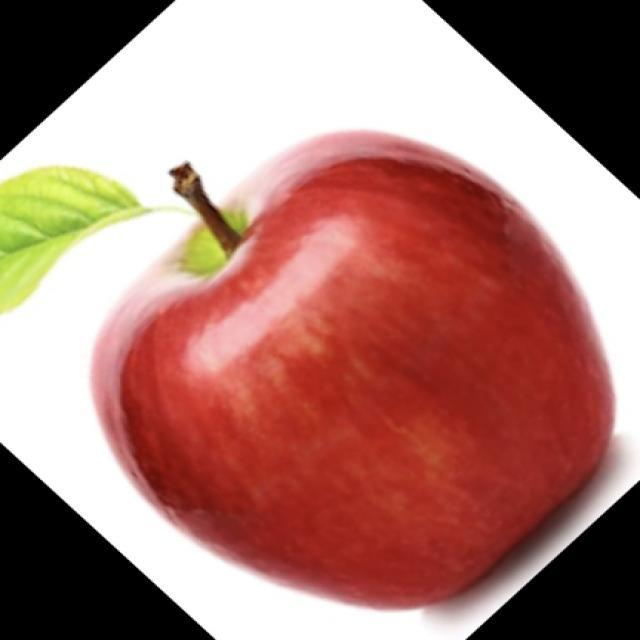Fresh Apple: (85, 131, 615, 611)
